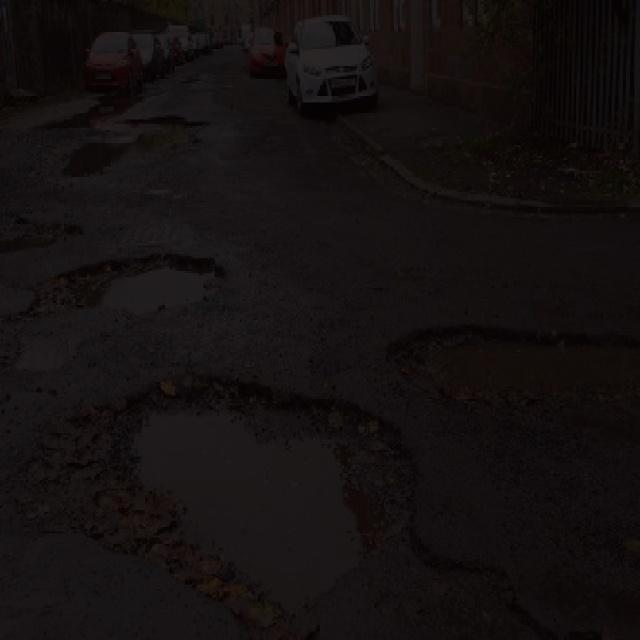Pothole: (69, 373, 420, 640), (367, 302, 640, 433), (0, 243, 234, 323), (72, 110, 214, 176)
